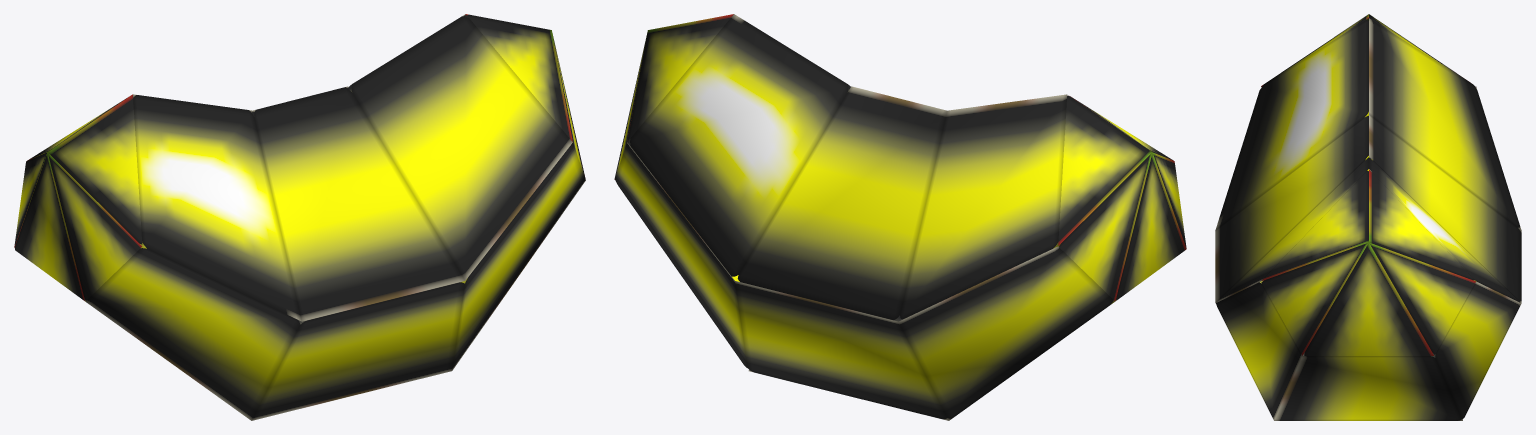
The picture shows the model from 3 angles, left to right: view 1: azimuth 30°, elevation 25°; view 2: azimuth 150°, elevation 25°; view 3: azimuth 270°, elevation 25°; orthographic projection. The views are drawn at different scales.
Parts seen in each view (by area): view 1: T1L8M005_32; view 2: T1L8M005_32; view 3: T1L8M005_32.
Part boxes in pixels (x1,y1,x2,y2): T1L8M005_32: (14,14,585,420); T1L8M005_32: (614,14,1186,420); T1L8M005_32: (1215,14,1521,420).
Size of the model in its own units: 0.5547 by 0.3213 by 0.3154.
